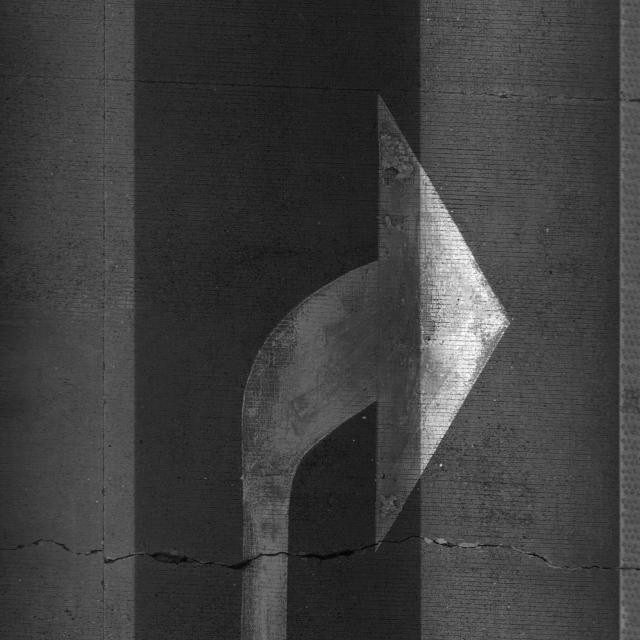right: (57, 82, 640, 640)
